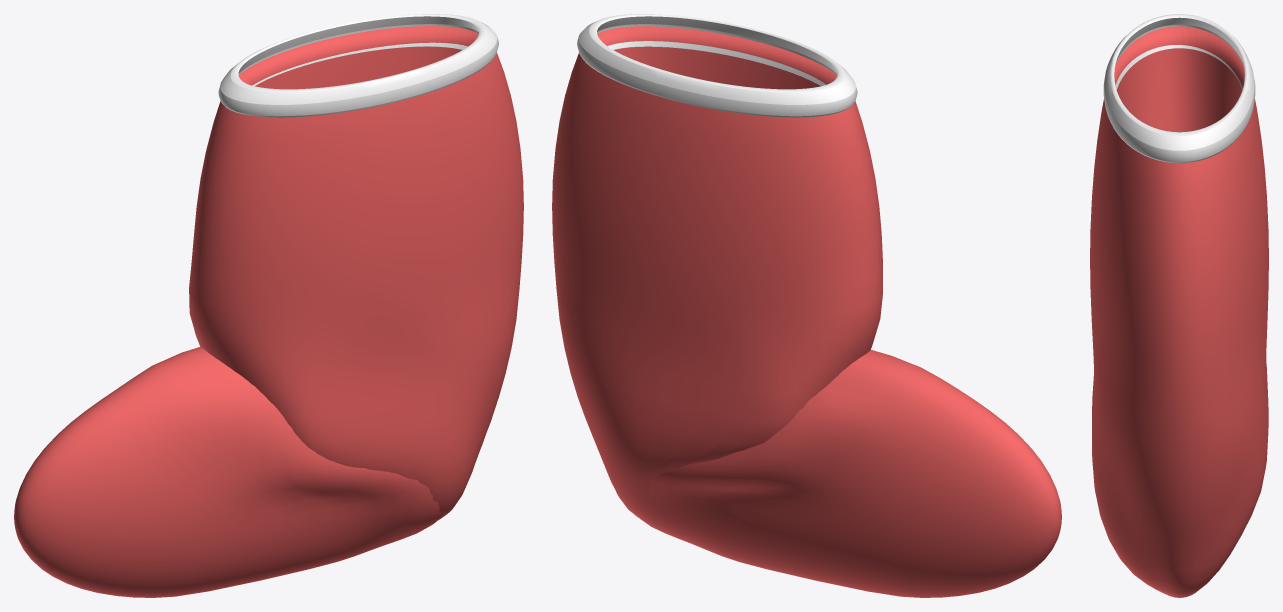
The model's file is stocking.fbx.
3 renders of one model, left to right at view 1: azimuth 30°, elevation 25°; view 2: azimuth 150°, elevation 25°; view 3: azimuth 270°, elevation 25°, orthographic.
Parts seen in each view (by area): view 1: Stocking; view 2: Stocking; view 3: Stocking.
Boxes of the visible parts, left/top/right/bottom form: Stocking: left=14, top=14, right=523, bottom=597; Stocking: left=552, top=14, right=1061, bottom=597; Stocking: left=1090, top=14, right=1268, bottom=597.
Bounding box in the file's own units: 7.47 × 7.13 × 2.27.
